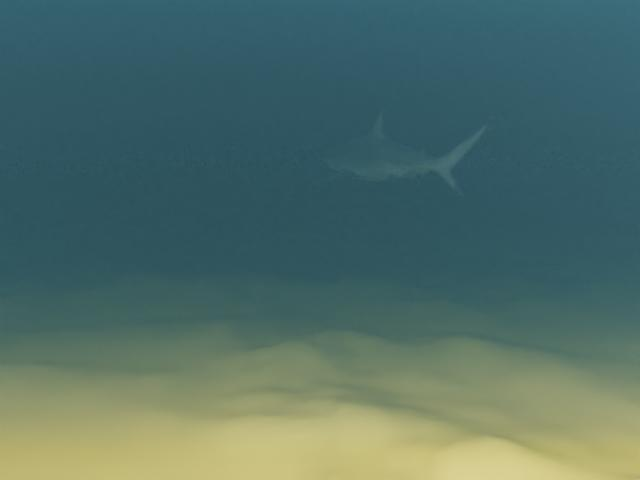Carribean Shark.001: (309, 108, 494, 198)
